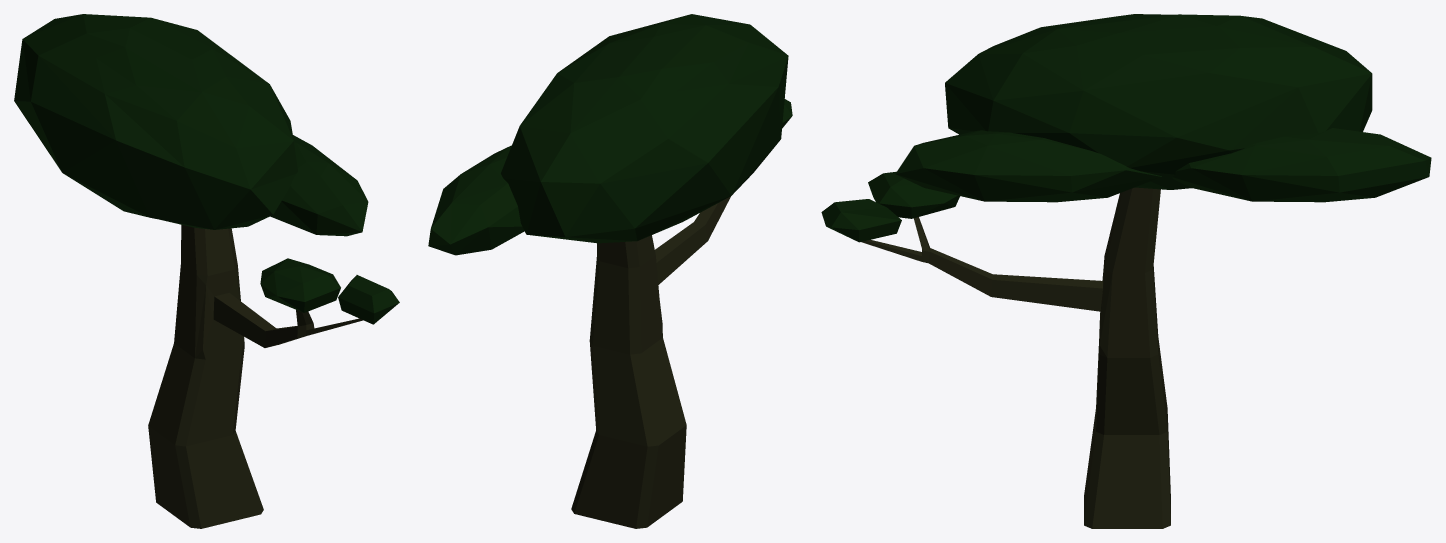
File: arbre3.FBX
3 renders of one model, left to right at view 1: azimuth 30°, elevation 25°; view 2: azimuth 150°, elevation 25°; view 3: azimuth 270°, elevation 25°, orthographic. The views are drawn at different scales.
Visible parts, largest first — view 1: Sphere003, Box001, Sphere001, Sphere002; view 2: Sphere003, Box001; view 3: Sphere003, Box001, Sphere001, Sphere002.
Boxes of the visible parts, box(x1,y1,x2,y2) form: Sphere003: box(14, 14, 368, 236); Box001: box(148, 224, 363, 528); Sphere001: box(260, 258, 340, 312); Sphere002: box(338, 275, 399, 324); Sphere003: box(428, 14, 788, 255); Box001: box(571, 196, 730, 528); Sphere003: box(895, 14, 1431, 202); Box001: box(861, 187, 1170, 528); Sphere001: box(868, 171, 959, 218); Sphere002: box(821, 199, 901, 242).
Bounding box in the file's own units: 3.83 × 8.12 × 9.62.
